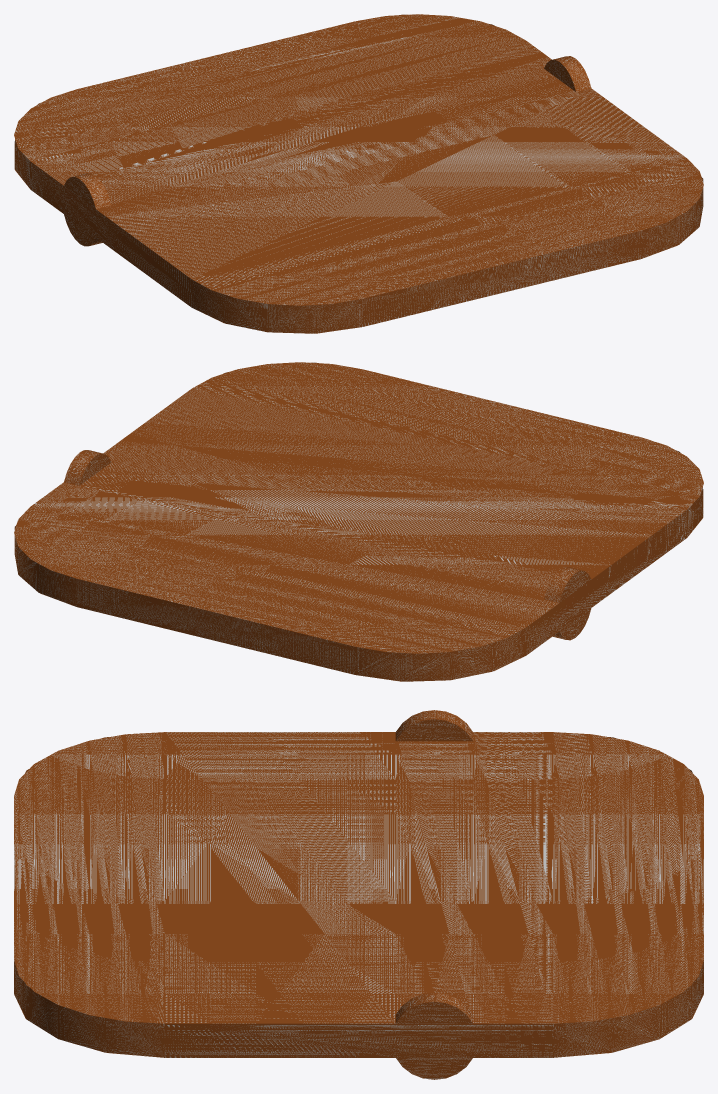
File: original-3.obj
3 views of the same model, one above another, from view 1: azimuth 30°, elevation 25°; view 2: azimuth 150°, elevation 25°; view 3: azimuth 270°, elevation 25° (orthographic). The views are drawn at different scales.
Parts seen in each view (by area): view 1: mesh3/mesh3-geometry#mesh3-geometry; view 2: mesh3/mesh3-geometry#mesh3-geometry; view 3: mesh3/mesh3-geometry#mesh3-geometry.
Boxes of the visible parts, box(x1,y1,x2,y2) form: mesh3/mesh3-geometry#mesh3-geometry: box(14, 14, 703, 333); mesh3/mesh3-geometry#mesh3-geometry: box(14, 362, 703, 681); mesh3/mesh3-geometry#mesh3-geometry: box(14, 710, 703, 1079).
Bounding box in the file's own units: 0.7815 × 0.0977 × 0.7815.
